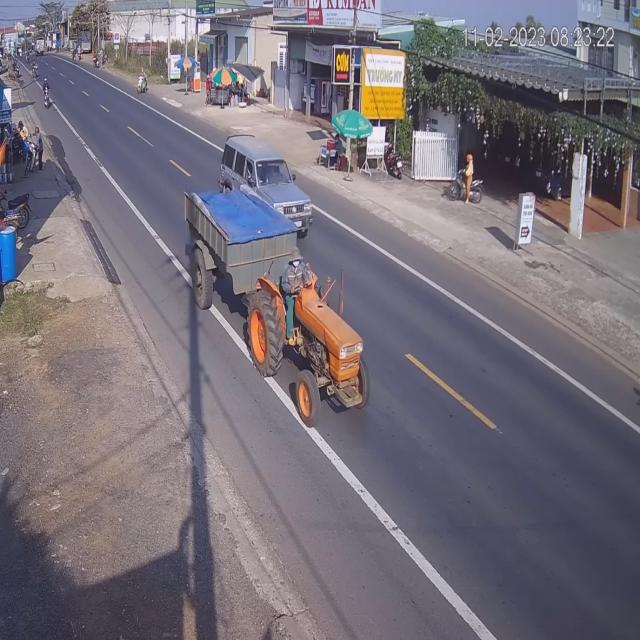car: (216, 134, 313, 234)
motorbike: (138, 66, 148, 95), (42, 79, 52, 105)
